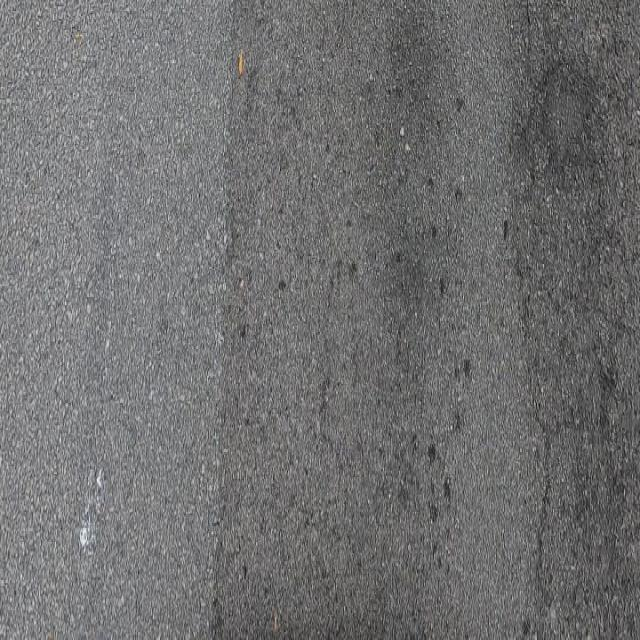cracks: (503, 0, 640, 640)
